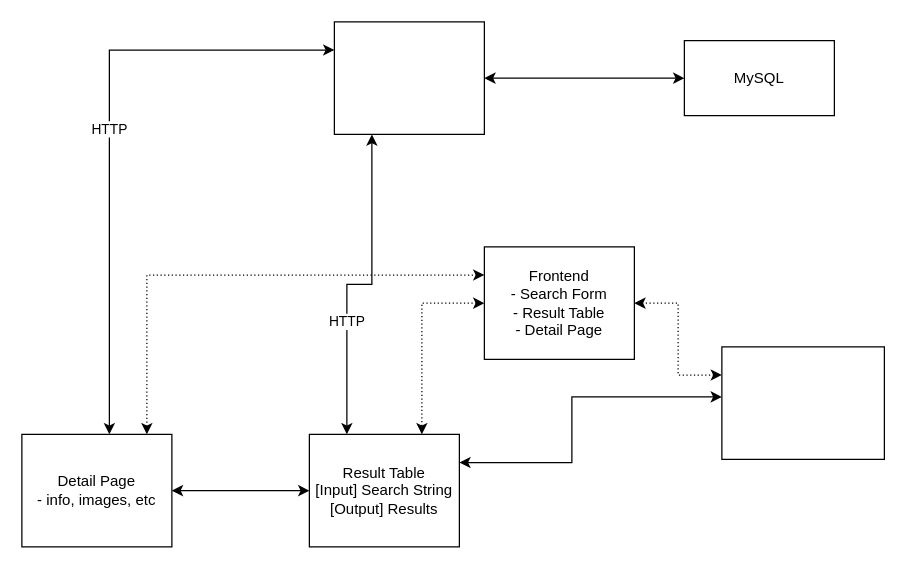
Image size: 906x569. Some labels were removed from this diagram. The box of each missing label's shape, as (x1, y1, x2, y2) in pixels:
Backend - /search/ - /cases/:id: (333, 21, 484, 134)
Search Form [Input] User Query [Output] Search String: (721, 346, 884, 459)
